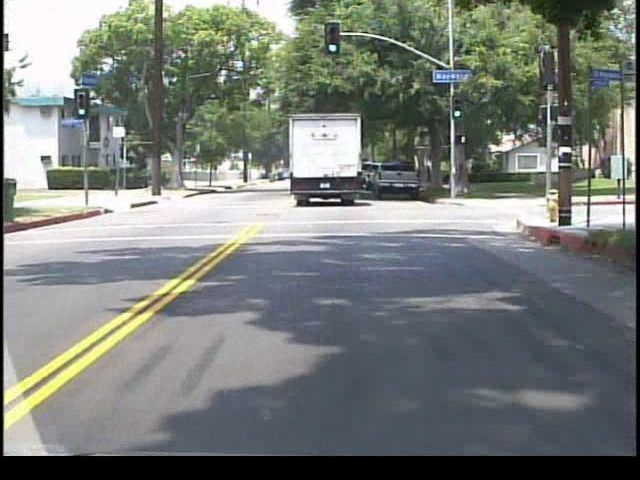person: (424, 166, 432, 185)
